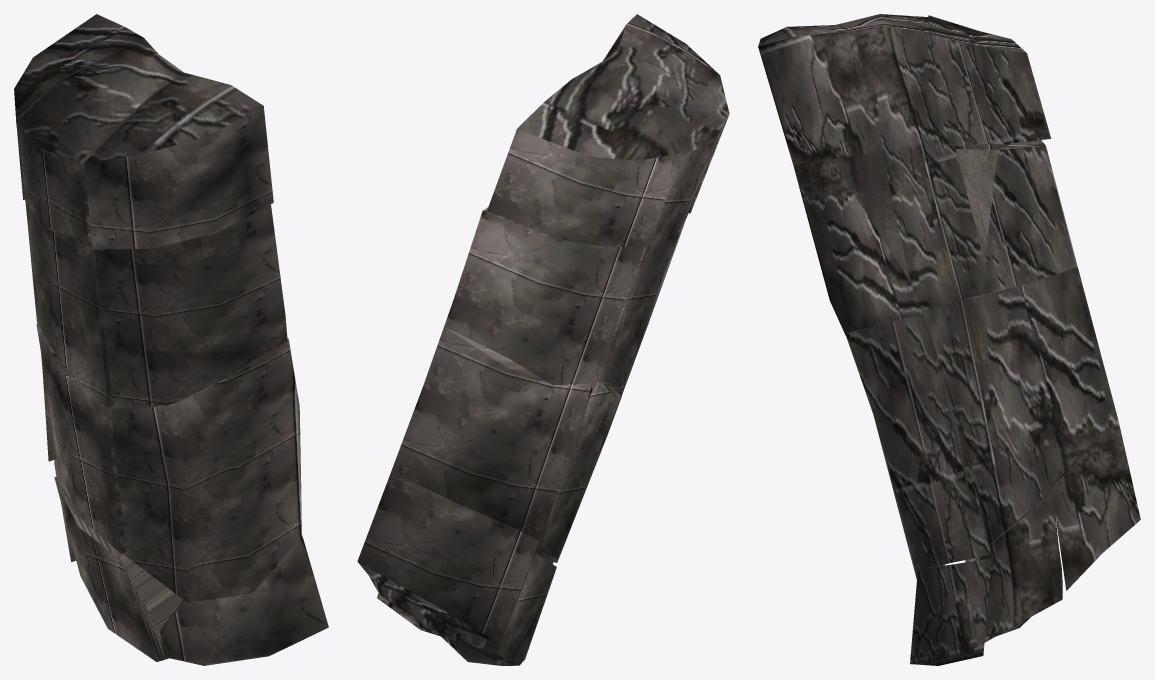
Rendered from INST_SM_DEBRIS_BLOCK_DESTROYED_DEBRISBLOCK__AI.fbx.
The picture shows the model from 3 angles, left to right: view 1: azimuth 30°, elevation 25°; view 2: azimuth 150°, elevation 25°; view 3: azimuth 270°, elevation 25°; orthographic projection. The views are drawn at different scales.
Visible parts, largest first — view 1: INST_SM_DEBRIS_BLOCK_DESTROYED_DEBRISBLOCK__AI; view 2: INST_SM_DEBRIS_BLOCK_DESTROYED_DEBRISBLOCK__AI; view 3: INST_SM_DEBRIS_BLOCK_DESTROYED_DEBRISBLOCK__AI.
Boxes of the visible parts, x1,y1,x2,y2 form: INST_SM_DEBRIS_BLOCK_DESTROYED_DEBRISBLOCK__AI: (14, 14, 328, 665); INST_SM_DEBRIS_BLOCK_DESTROYED_DEBRISBLOCK__AI: (357, 14, 729, 665); INST_SM_DEBRIS_BLOCK_DESTROYED_DEBRISBLOCK__AI: (758, 14, 1140, 665).
Bounding box in the file's own units: 42802 × 86734 × 51862.
3 materials, 3 textured.
